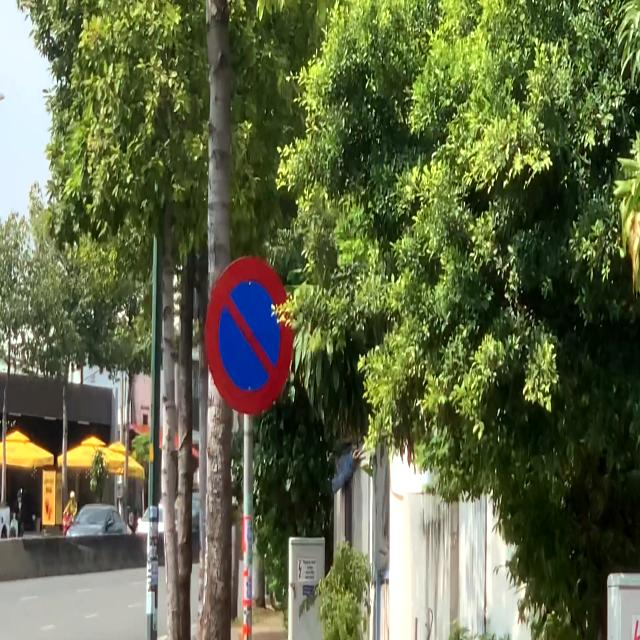P.131a: (203, 258, 293, 420)
